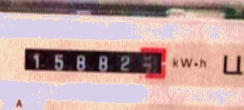1: (31, 51, 42, 70)
2: (119, 54, 131, 71)
5: (52, 53, 65, 70)
7: (141, 61, 152, 74)
8: (75, 53, 87, 71), (98, 54, 109, 71)
screen: (16, 36, 173, 84)
